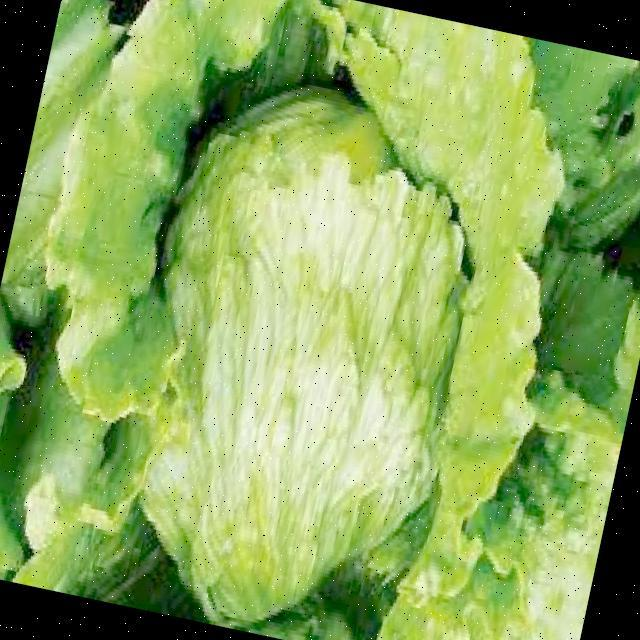healthy: (33, 0, 582, 614)
